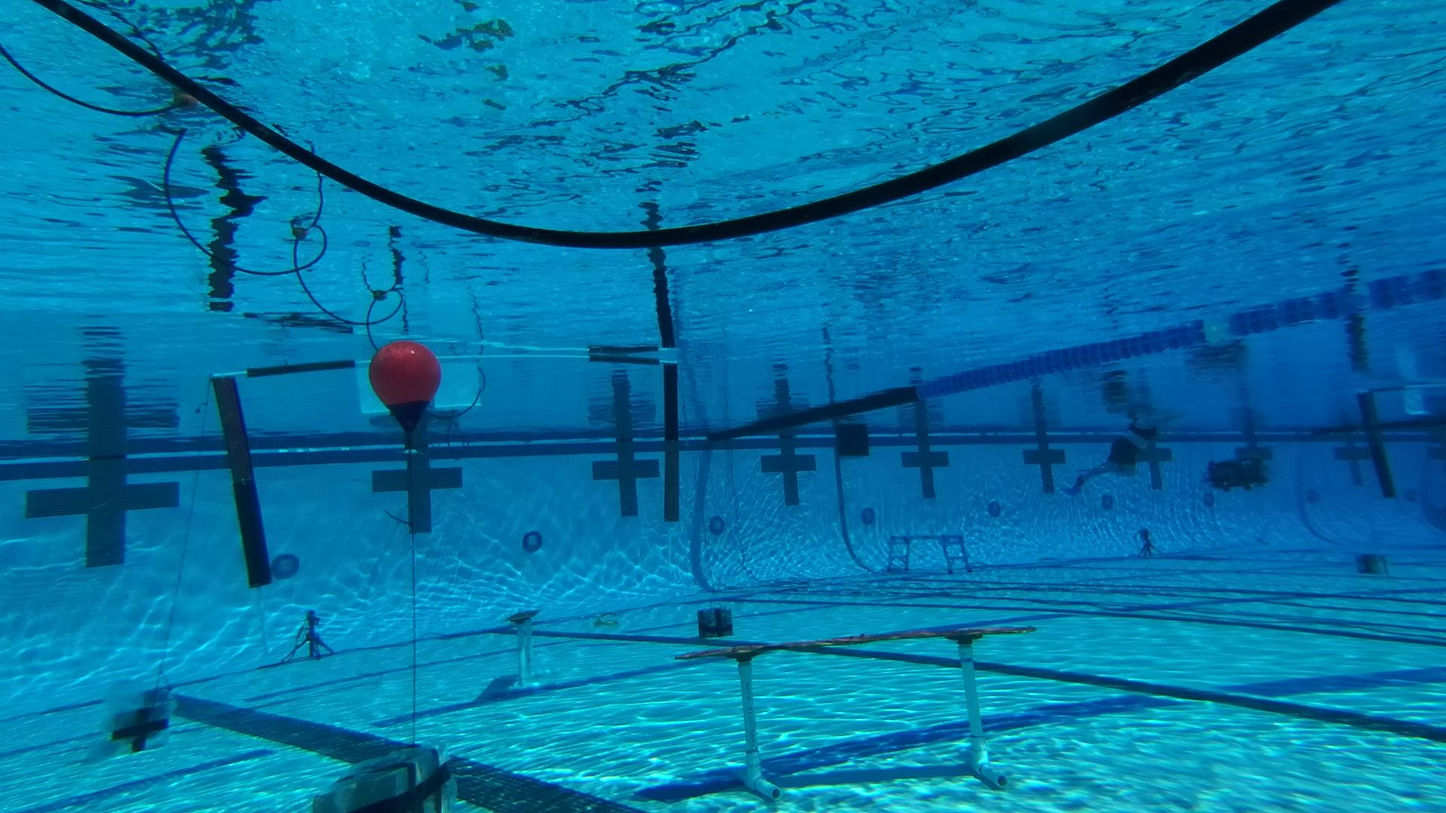buoy: (367, 337, 441, 441)
path: (673, 612, 1041, 804), (487, 590, 581, 693), (886, 530, 978, 580)
